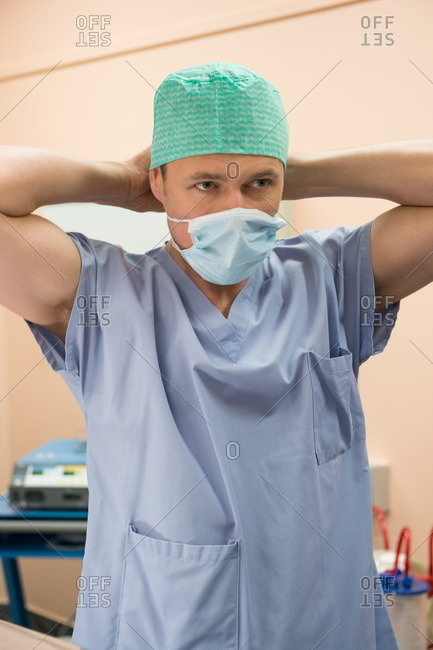mask: (189, 222, 278, 281)
